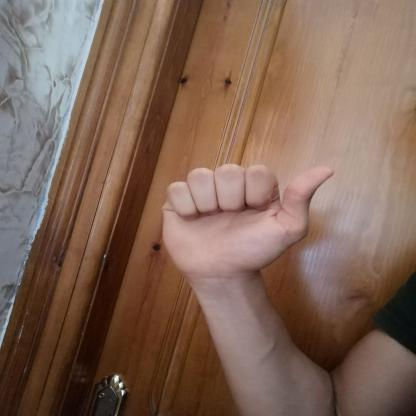DAD: (148, 155, 347, 288)
